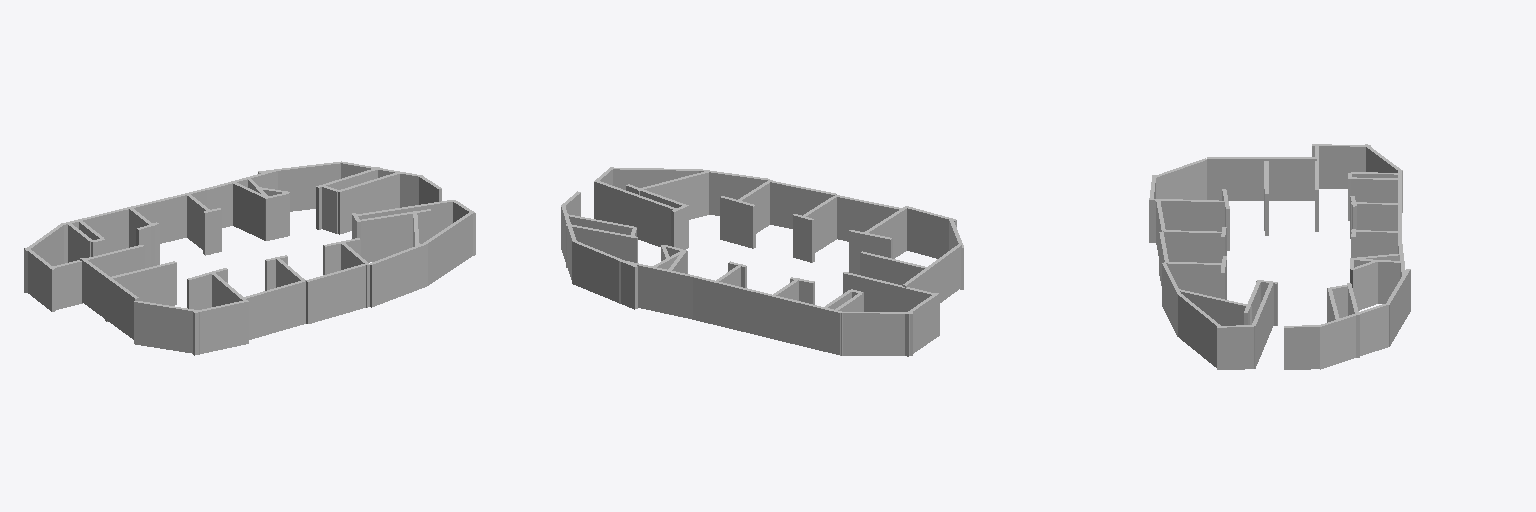
Rendered from wall_shape.obj.
3 views of the same model, side by side, from view 1: azimuth 30°, elevation 25°; view 2: azimuth 150°, elevation 25°; view 3: azimuth 270°, elevation 25° (orthographic).
Parts seen in each view (by area): view 1: Cube.015_Cube.035, Cube.008_Cube.028, Cube.018_Cube.038, Cube.012_Cube.032, Cube.028_Cube.048, Cube.047_Cube.067, Cube.009_Cube.029, Cube.025_Cube.045, Cube.019_Cube.039, Cube.023_Cube.043, Cube.048_Cube.068, Cube.032_Cube.052 (+21 smaller); view 2: Cube.039_Cube.059, Cube.032_Cube.052, Cube.029_Cube.049, Cube.045_Cube.065, Cube.023_Cube.043, Cube.031_Cube.051, Cube.047_Cube.067, Cube.009_Cube.029, Cube.015_Cube.035, Cube.030_Cube.050, Cube.012_Cube.032, Cube.017_Cube.037 (+15 smaller); view 3: Cube.022_Cube.042, Cube.049_Cube.069, Cube.010_Cube.030, Cube.007_Cube.027, Cube.046_Cube.066, Cube.019_Cube.039, Cube.013_Cube.033, Cube.008_Cube.028, Cube.020_Cube.040, Cube.021_Cube.041, Cube.016_Cube.036, Cube.030_Cube.050 (+9 smaller).
Part boxes in pixels (left/top/right/bottom): Cube.015_Cube.035: left=306, top=264, right=365, bottom=323; Cube.008_Cube.028: left=134, top=301, right=199, bottom=354; Cube.018_Cube.038: left=370, top=243, right=427, bottom=307; Cube.012_Cube.032: left=243, top=280, right=305, bottom=339; Cube.028_Cube.048: left=361, top=209, right=431, bottom=262; Cube.047_Cube.067: left=49, top=245, right=144, bottom=309; Cube.009_Cube.029: left=193, top=300, right=246, bottom=355; Cube.025_Cube.045: left=338, top=172, right=401, bottom=234; Cube.019_Cube.039: left=424, top=212, right=472, bottom=285; Cube.023_Cube.043: left=258, top=161, right=341, bottom=211; Cube.048_Cube.068: left=105, top=261, right=176, bottom=321; Cube.032_Cube.052: left=135, top=188, right=208, bottom=243; Cube.039_Cube.059: left=767, top=294, right=843, bottom=355; Cube.032_Cube.052: left=693, top=276, right=768, bottom=337; Cube.029_Cube.049: left=594, top=181, right=676, bottom=246; Cube.045_Cube.065: left=840, top=312, right=912, bottom=355; Cube.023_Cube.043: left=572, top=240, right=637, bottom=309; Cube.031_Cube.051: left=619, top=260, right=698, bottom=319; Cube.047_Cube.067: left=843, top=272, right=936, bottom=311; Cube.009_Cube.029: left=905, top=206, right=956, bottom=258; Cube.015_Cube.035: left=767, top=180, right=836, bottom=228; Cube.030_Cube.050: left=637, top=172, right=708, bottom=219; Cube.012_Cube.032: left=835, top=195, right=901, bottom=241; Cube.017_Cube.037: left=720, top=196, right=755, bottom=248; Cube.022_Cube.042: left=1320, top=303, right=1388, bottom=369; Cube.049_Cube.069: left=1258, top=157, right=1316, bottom=200; Cube.010_Cube.030: left=1149, top=199, right=1227, bottom=242; Cube.007_Cube.027: left=1207, top=157, right=1258, bottom=200; Cube.046_Cube.066: left=1312, top=144, right=1370, bottom=188; Cube.019_Cube.039: left=1178, top=294, right=1220, bottom=367; Cube.013_Cube.033: left=1164, top=230, right=1222, bottom=262; Cube.008_Cube.028: left=1153, top=158, right=1206, bottom=199; Cube.020_Cube.040: left=1217, top=325, right=1253, bottom=369; Cube.021_Cube.041: left=1284, top=325, right=1319, bottom=369; Cube.016_Cube.036: left=1164, top=262, right=1222, bottom=297; Cube.030_Cube.050: left=1176, top=289, right=1251, bottom=325.
Bounding box in the file's own units: 37.15 × 4.2 × 22.37.